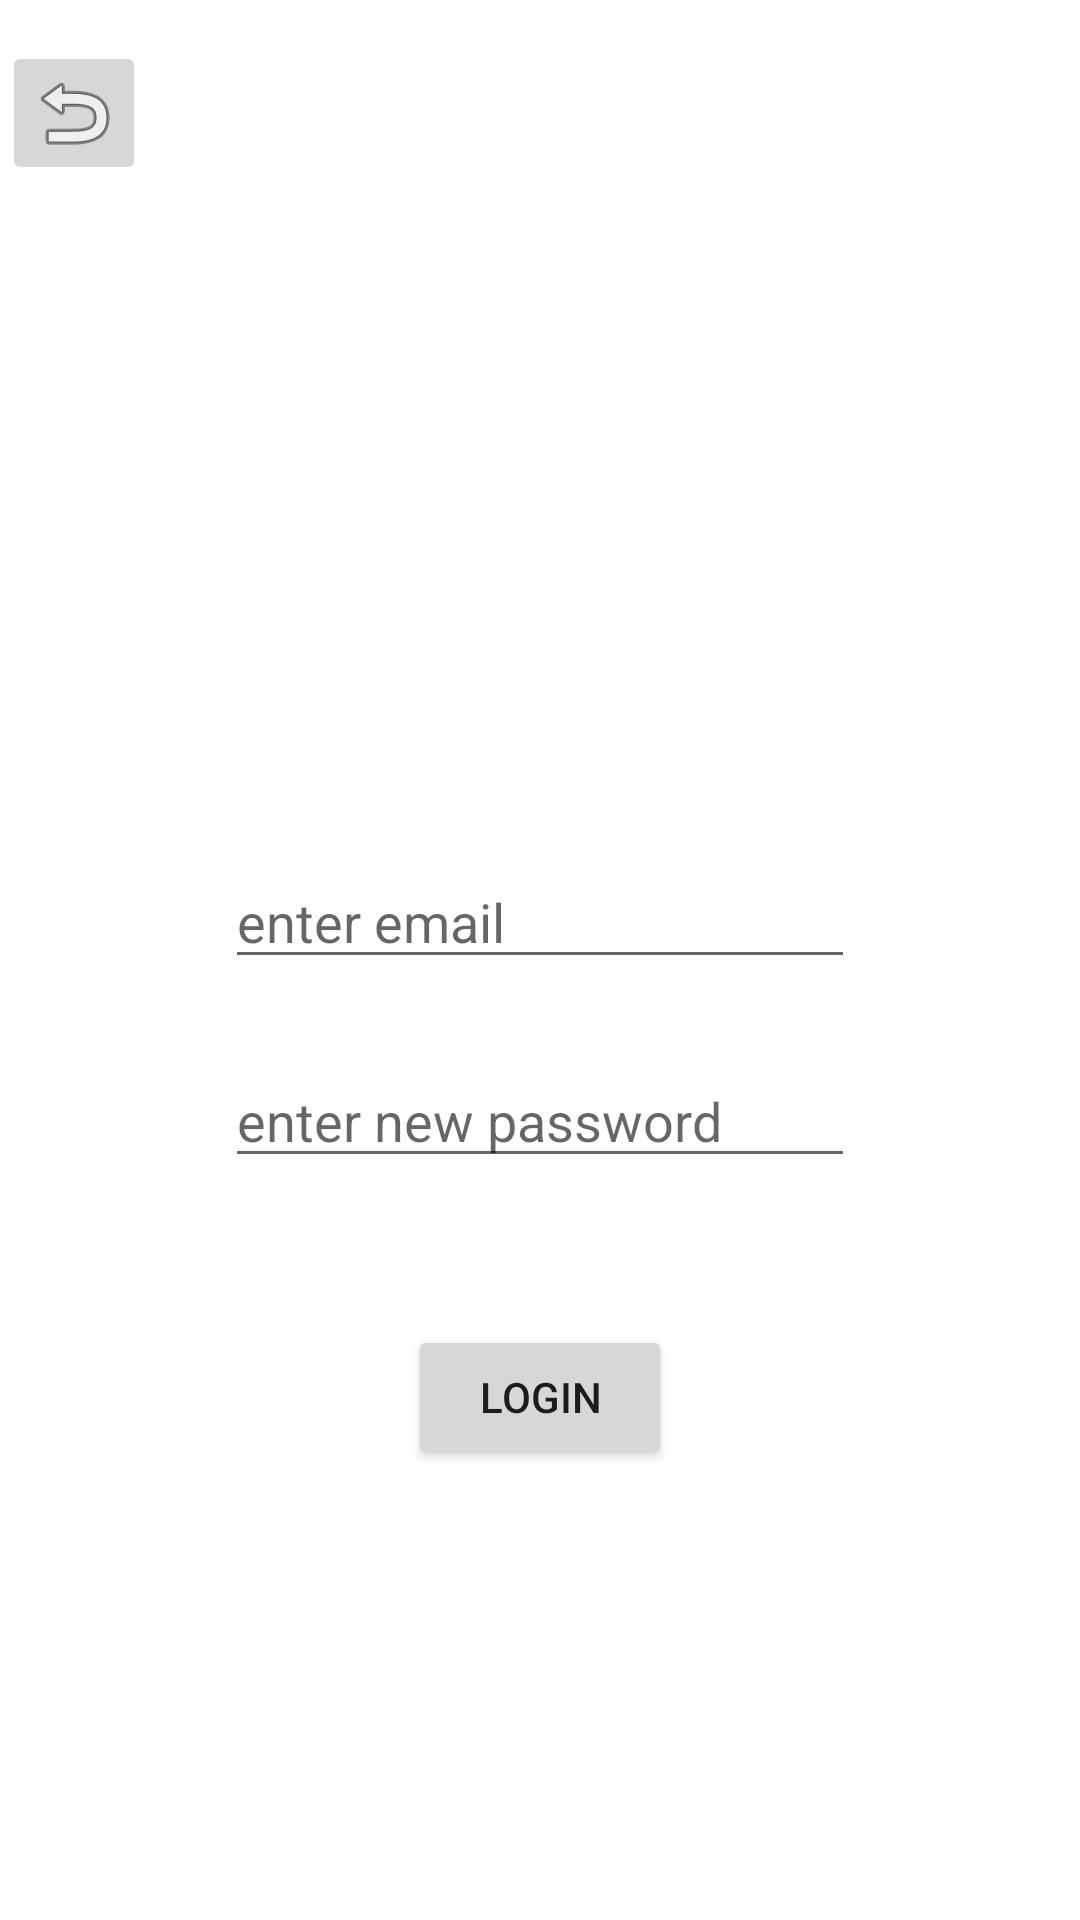

Named icons in this screenshot (1080 x 1920) and their centers, point (x, y):
Back: point (74, 113)
